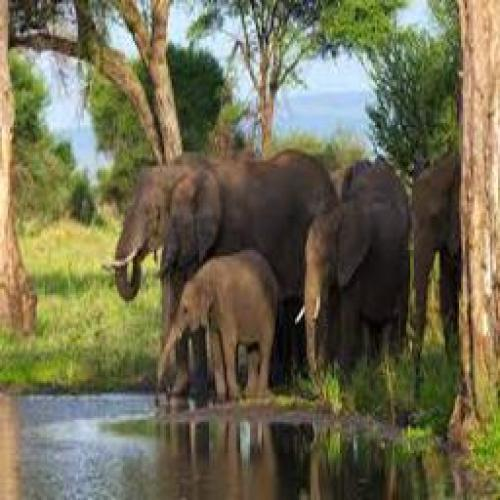african_elephant-endangered: (100, 151, 336, 394), (293, 149, 412, 382), (154, 247, 278, 402), (408, 151, 462, 378)
